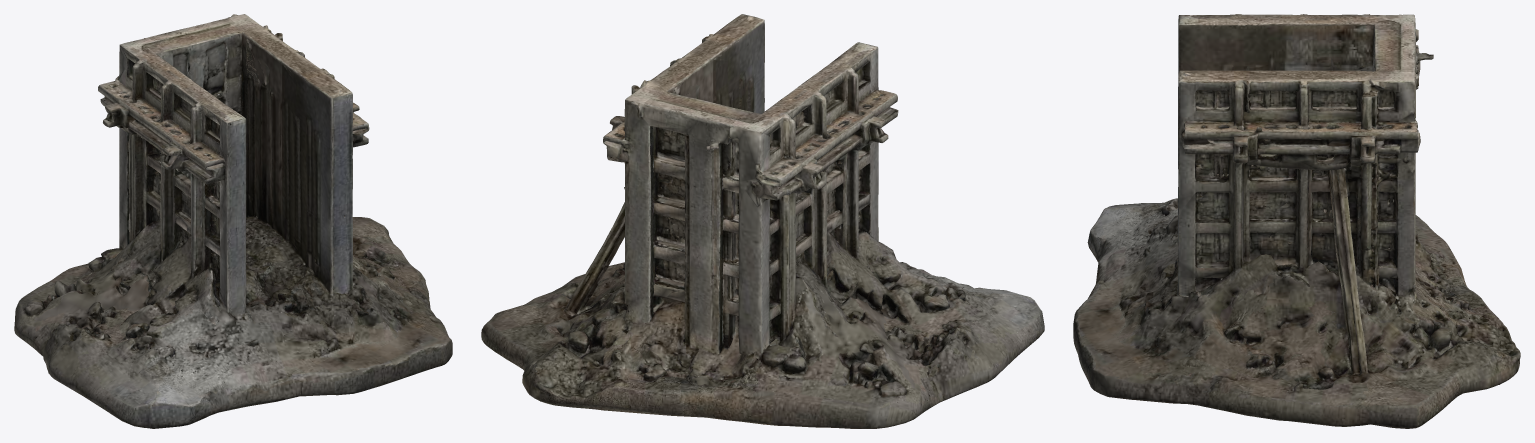
Rendered from Industrial.glb.
3 views of the same model, side by side, from view 1: azimuth 30°, elevation 25°; view 2: azimuth 150°, elevation 25°; view 3: azimuth 270°, elevation 25° (orthographic). The views are drawn at different scales.
Visible parts, largest first — view 1: texture_mapping; view 2: texture_mapping; view 3: texture_mapping.
Part boxes in pixels (<box>): texture_mapping: <box>14,14,452,428</box>; texture_mapping: <box>481,14,1044,428</box>; texture_mapping: <box>1073,14,1520,428</box>.
Size of the model in its own units: 0.9994 by 0.6286 by 0.8909.
Materials: 1 (1 with a texture image).
